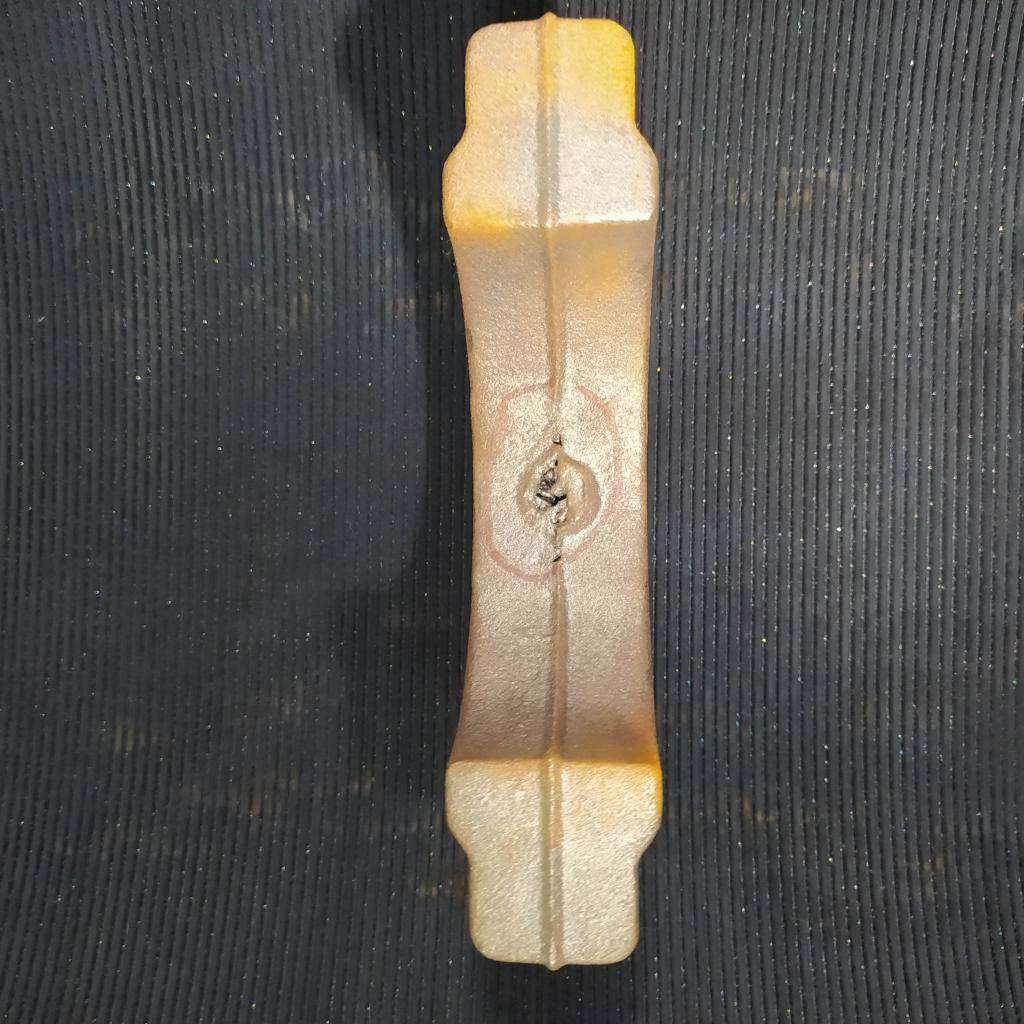buraco: (541, 459, 571, 508), (552, 551, 567, 567), (552, 435, 567, 449)
